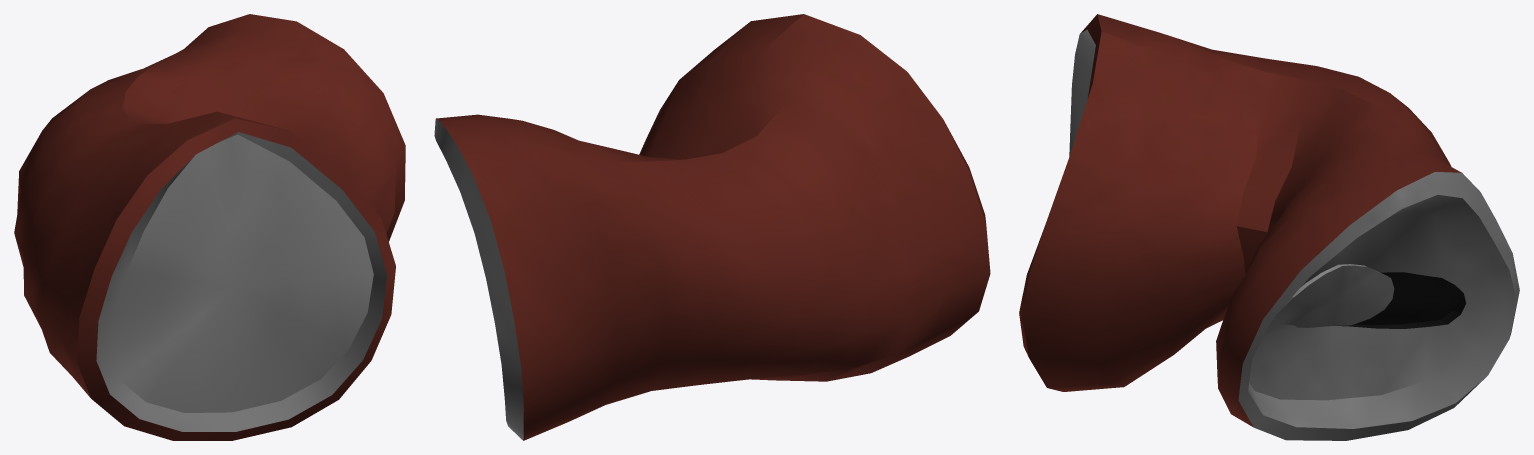
Rendered from Lata Roja.fbx.
3 renders of one model, left to right at view 1: azimuth 30°, elevation 25°; view 2: azimuth 150°, elevation 25°; view 3: azimuth 270°, elevation 25°, orthographic. The views are drawn at different scales.
Visible parts, largest first — view 1: Lata.002; view 2: Lata.002; view 3: Lata.002.
Boxes of the visible parts, x1,y1,x2,y2 form: Lata.002: (14,14,405,440); Lata.002: (434,14,990,440); Lata.002: (1019,14,1519,440).
Bounding box in the file's own units: 19.38 × 13.94 × 18.59.
